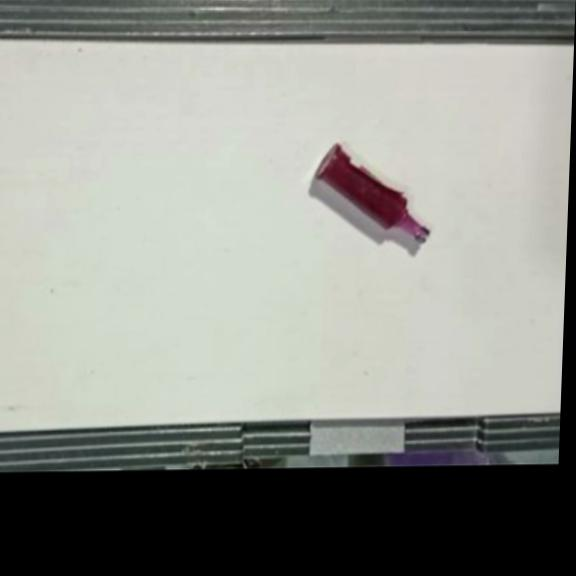Plastik: (311, 141, 436, 245)
